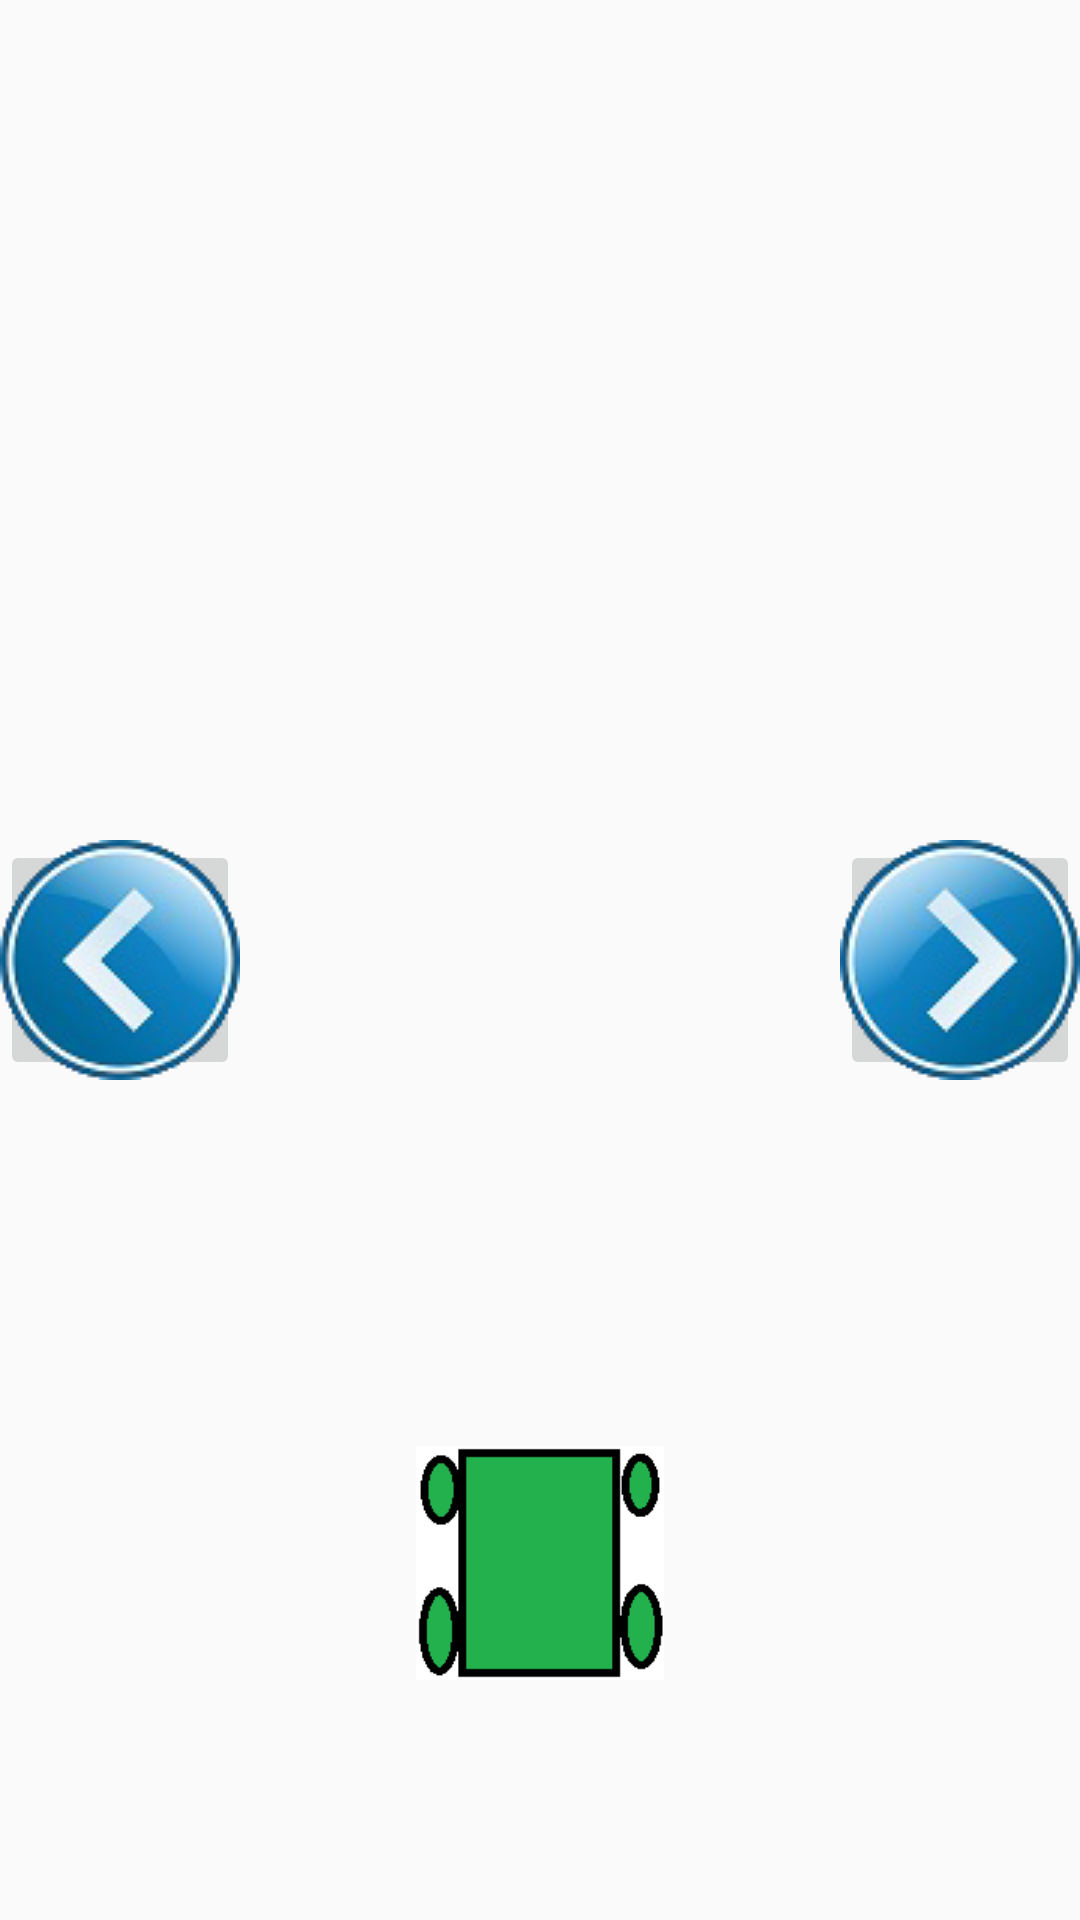

Icon click points for this 1080x1920 phone screenshot, format (x=x, y=y):
leftbutton: (x=120, y=960)
rightbutton: (x=960, y=960)
